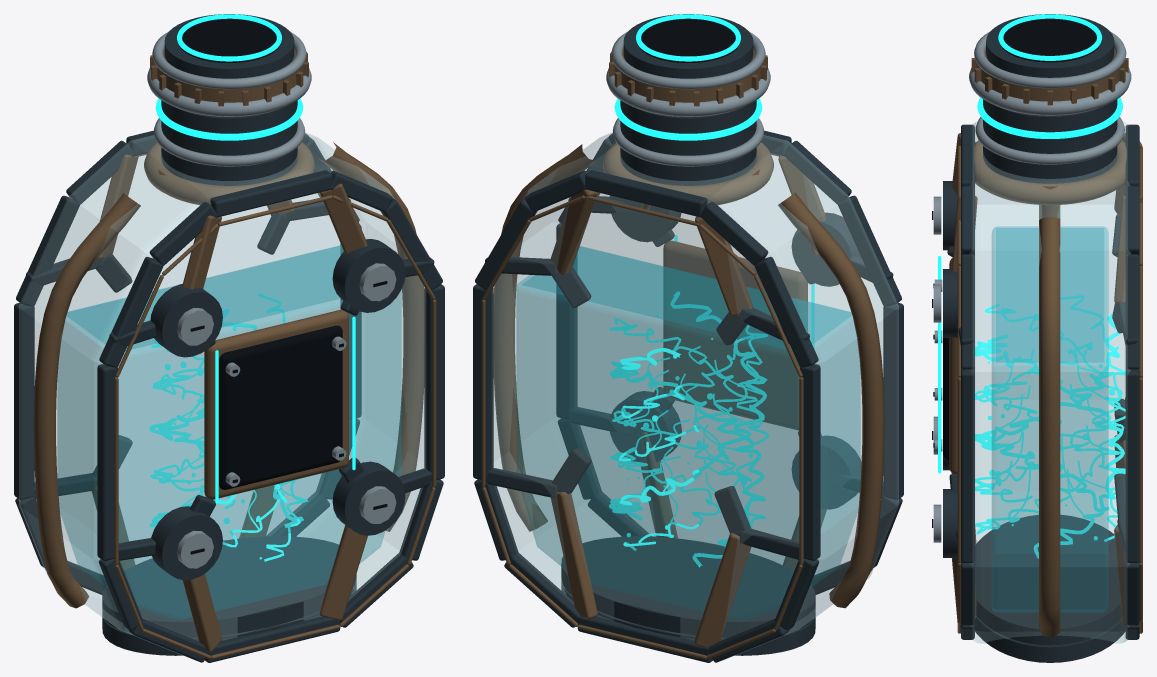
File: prism-flask.glb
3 renders of one model, left to right at view 1: azimuth 30°, elevation 25°; view 2: azimuth 150°, elevation 25°; view 3: azimuth 270°, elevation 25°, orthographic.
Visible parts, largest first — view 1: Optical glass, Brushed titanium (×2), Liquid, Aged bronze (×2), LabelSurface, Machined edges (×2), Energy (×2), Ceramic inserts (×2), Liquid meniscus; view 2: Optical glass, Liquid, Brushed titanium (×2), Aged bronze (×2), Energy (×2), Liquid meniscus, Machined edges (×2), Ceramic inserts; view 3: Optical glass, Brushed titanium (×2), Liquid, Aged bronze (×2), Energy (×2), Liquid meniscus, Machined edges (×2), Ceramic inserts (×2).
Part boxes in pixels (bbox=[...]): Optical glass: bbox=[19, 132, 425, 660]; Brushed titanium (×2): bbox=[14, 14, 444, 662]; Liquid: bbox=[57, 246, 401, 619]; Aged bronze (×2): bbox=[33, 49, 436, 659]; LabelSurface: bbox=[231, 342, 336, 477]; Machined edges (×2): bbox=[147, 32, 396, 568]; Energy (×2): bbox=[149, 14, 355, 561]; Ceramic inserts (×2): bbox=[178, 18, 387, 554]; Liquid meniscus: bbox=[66, 245, 343, 349]; Optical glass: bbox=[492, 132, 898, 660]; Liquid: bbox=[516, 247, 860, 619]; Brushed titanium (×2): bbox=[473, 14, 903, 662]; Aged bronze (×2): bbox=[481, 49, 884, 659]; Energy (×2): bbox=[609, 14, 814, 567]; Liquid meniscus: bbox=[522, 246, 851, 349]; Machined edges (×2): bbox=[606, 32, 770, 166]; Ceramic inserts: bbox=[637, 18, 739, 62]; Optical glass: bbox=[969, 121, 1130, 643]; Brushed titanium (×2): bbox=[943, 14, 1139, 662]; Liquid: bbox=[992, 226, 1108, 612]; Aged bronze (×2): bbox=[949, 49, 1142, 637]; Energy (×2): bbox=[938, 14, 1125, 558]; Liquid meniscus: bbox=[996, 228, 1103, 362]; Machined edges (×2): bbox=[933, 31, 1131, 542]; Ceramic inserts (×2): bbox=[932, 18, 1099, 527].
Size of the model in its own units: 2.05 by 2.93 by 0.9725.
